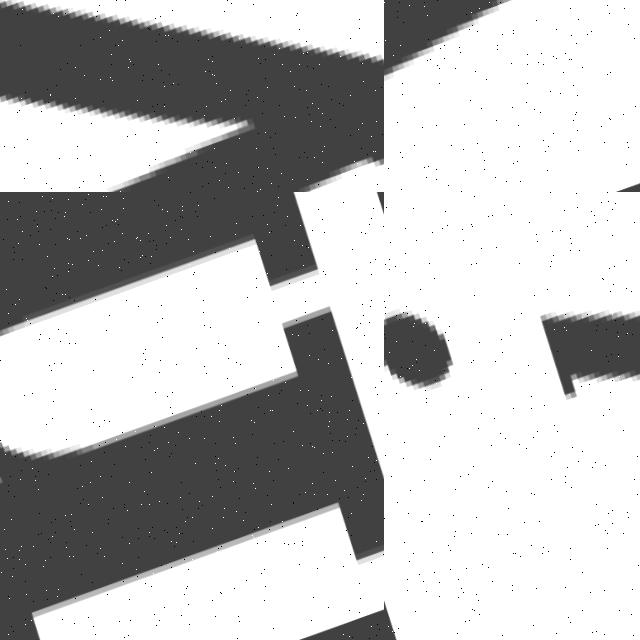I: (384, 192, 640, 610)
N: (0, 192, 384, 640)
Y: (0, 0, 384, 192), (384, 0, 640, 192)
